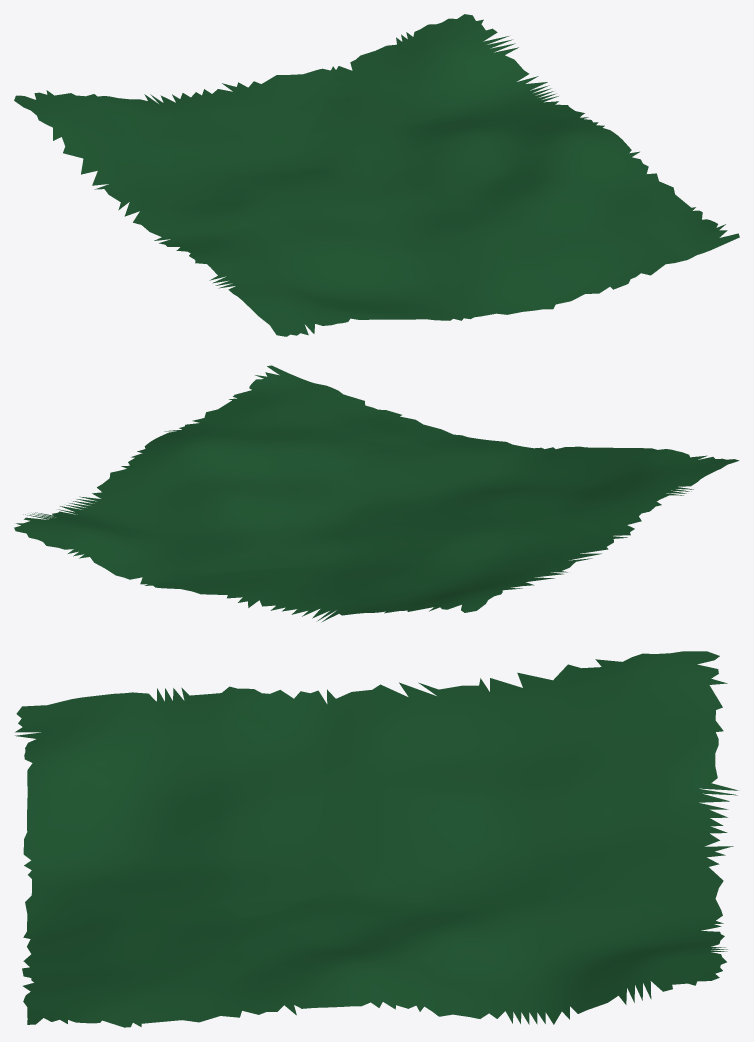
Rendered from payo_land_xm4_y2_lod1.glb.
3 renders of one model, top to bottom at view 1: azimuth 30°, elevation 25°; view 2: azimuth 150°, elevation 25°; view 3: azimuth 270°, elevation 25°, orthographic. The views are drawn at different scales.
Visible parts, largest first — view 1: payo_land_xm4_y2; view 2: payo_land_xm4_y2; view 3: payo_land_xm4_y2.
Part boxes in pixels (x1,y1,x2,y2): payo_land_xm4_y2: (14,14,739,336); payo_land_xm4_y2: (14,365,739,622); payo_land_xm4_y2: (15,651,738,1027).
Size of the model in its own units: 270 by 44.95 by 269.
